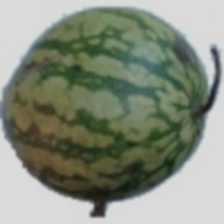watermelon: (10, 26, 199, 199)
